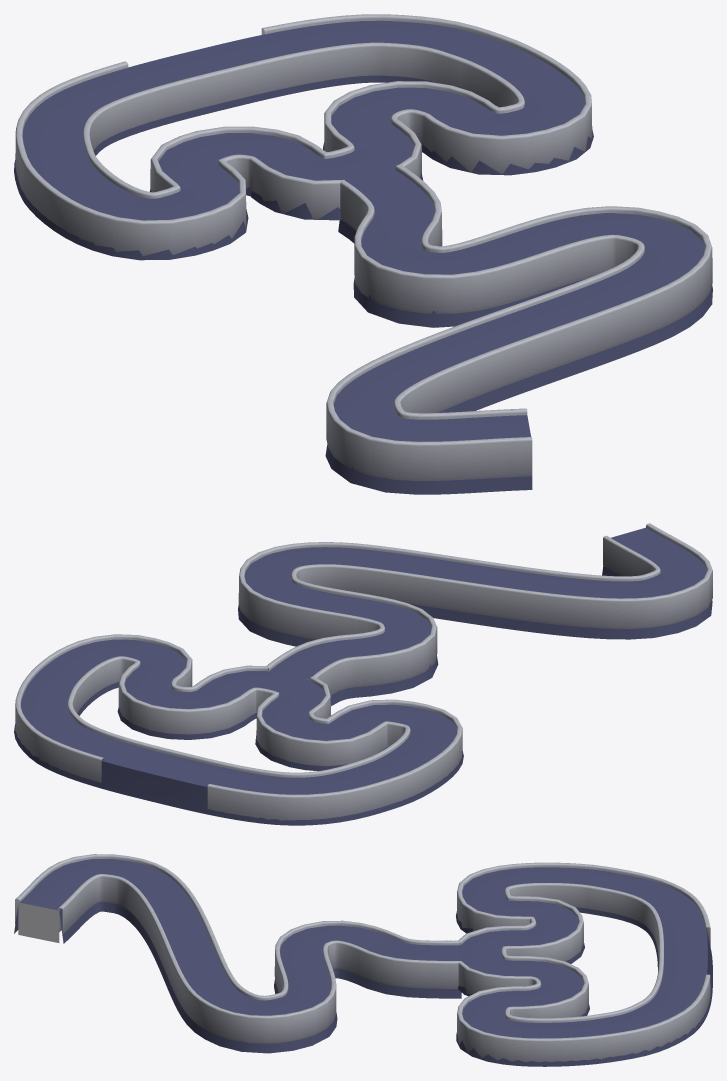
Rendered from map1.fbx.
3 views of the same model, one above another, from view 1: azimuth 30°, elevation 25°; view 2: azimuth 150°, elevation 25°; view 3: azimuth 270°, elevation 25° (orthographic). The views are drawn at different scales.
Parts seen in each view (by area): view 1: Circle__1_, Path; view 2: Circle__1_, Path; view 3: Circle__1_, Path.
Boxes of the visible parts, x1,y1,x2,y2 form: Circle__1_: (14,14,593,260); Path: (325,164,712,494); Circle__1_: (14,634,463,825); Path: (238,523,712,706); Circle__1_: (456,862,712,1066); Path: (14,854,461,1053).
Size of the model in its own units: 2587 by 237 by 4092.
